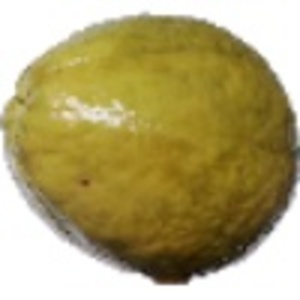goiaba: (3, 9, 298, 288)
